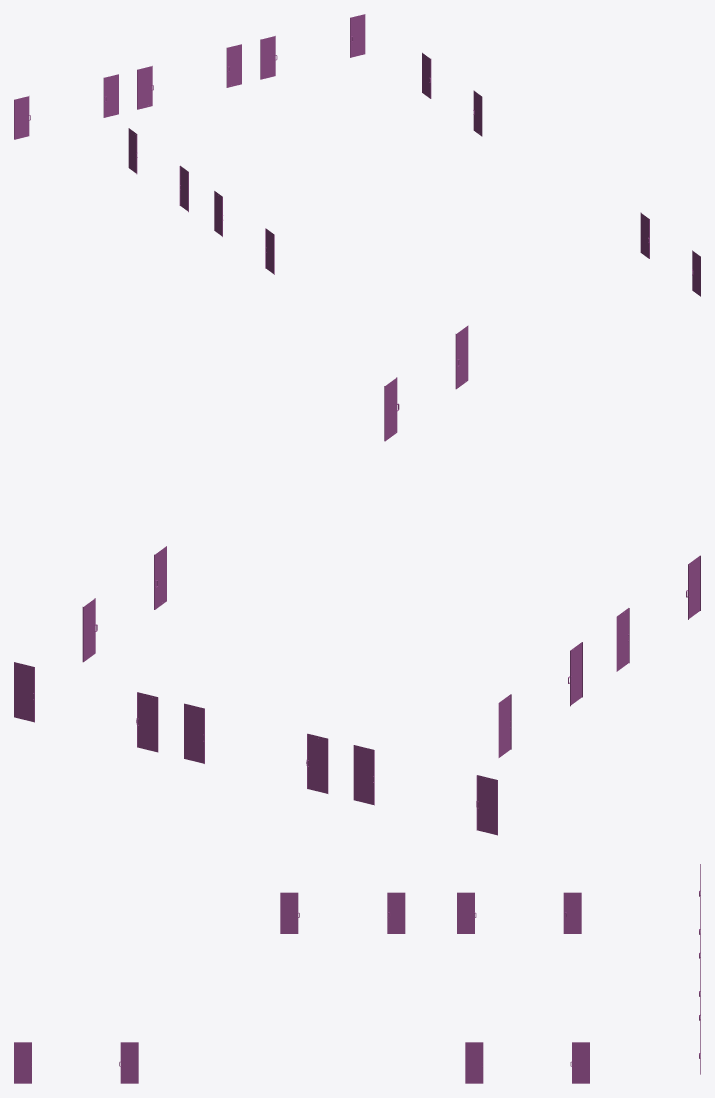
The model's file is Doors 10Floor.fbx.
3 renders of one model, top to bottom at view 1: azimuth 30°, elevation 25°; view 2: azimuth 150°, elevation 25°; view 3: azimuth 270°, elevation 25°, orthographic. The views are drawn at different scales.
Visible parts, largest first — view 1: Glass_Door1, Glass_Door3, Glass_Door5, Glass_Door2, Glass_Door4, Glass_Door; view 2: Glass_Door1, Glass_Door3, Glass_Door5, Glass_Door4, Glass_Door, Glass_Door2, Glass_Door13, Glass_Door10, Glass_Door11, Glass_Door6, Glass_Door8; view 3: Glass_Door10, Glass_Door9, Glass_Door12, Glass_Door6, Glass_Door8, Glass_Door7, Glass_Door13, Glass_Door11.
Part boxes in pixels (box(x1,y1,x2,y2)): Glass_Door1: box(260, 36, 277, 79); Glass_Door3: box(137, 66, 153, 109); Glass_Door5: box(14, 96, 30, 139); Glass_Door2: box(226, 44, 241, 87); Glass_Door4: box(103, 74, 118, 117); Glass_Door: box(350, 14, 365, 57); Glass_Door1: box(136, 692, 158, 752); Glass_Door3: box(306, 733, 328, 793); Glass_Door5: box(476, 775, 497, 835); Glass_Door4: box(353, 745, 374, 805); Glass_Door: box(14, 662, 34, 722); Glass_Door2: box(184, 703, 204, 763); Glass_Door13: box(82, 598, 97, 662); Glass_Door10: box(384, 377, 399, 441); Glass_Door11: box(455, 325, 468, 389); Glass_Door6: box(498, 694, 511, 757); Glass_Door8: box(616, 608, 629, 671); Glass_Door10: box(119, 1042, 138, 1083); Glass_Door9: box(280, 892, 299, 933); Glass_Door12: box(465, 1042, 483, 1083); Glass_Door6: box(563, 892, 581, 933); Glass_Door8: box(387, 892, 405, 933); Glass_Door7: box(457, 892, 476, 933); Glass_Door13: box(570, 1042, 589, 1083); Glass_Door11: box(14, 1042, 31, 1083).
Bounding box in the file's own units: 2859 × 309 × 4648.
